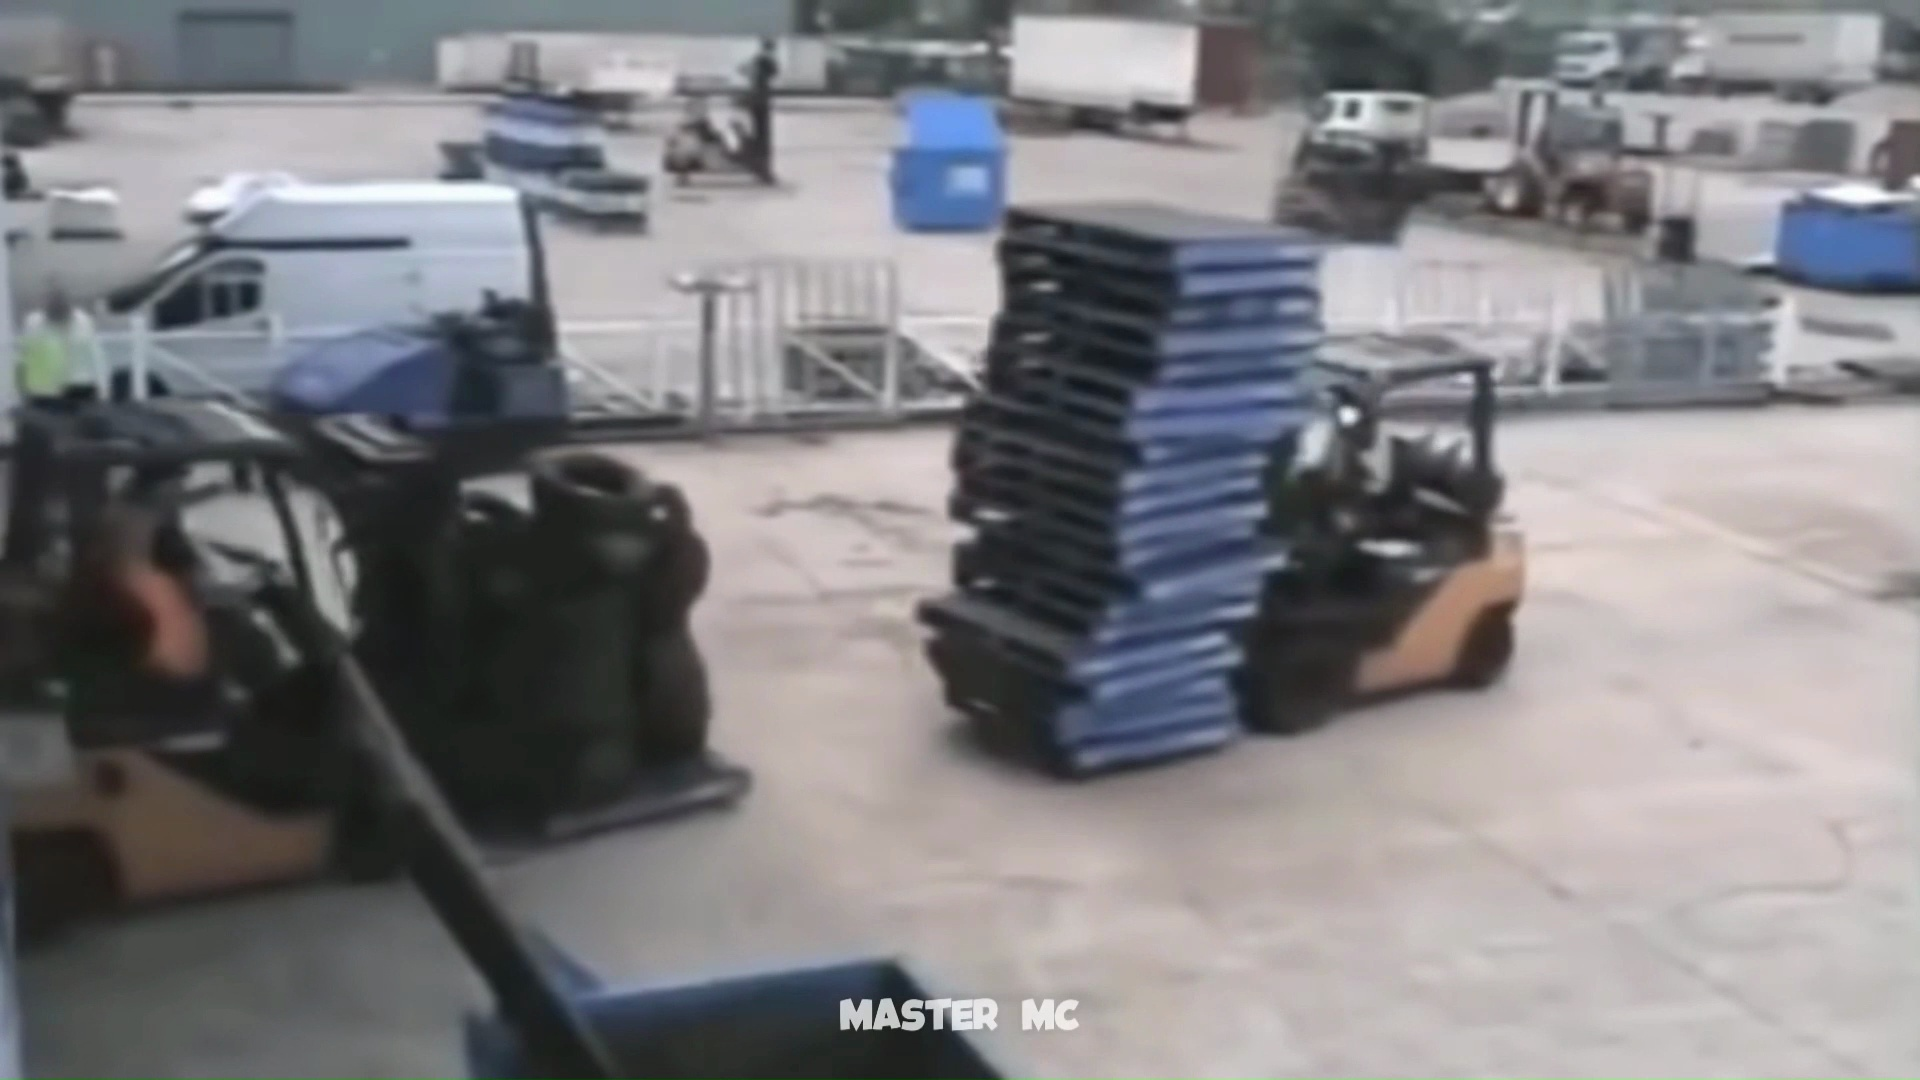forklift: (17, 386, 762, 876), (918, 199, 1527, 781)
